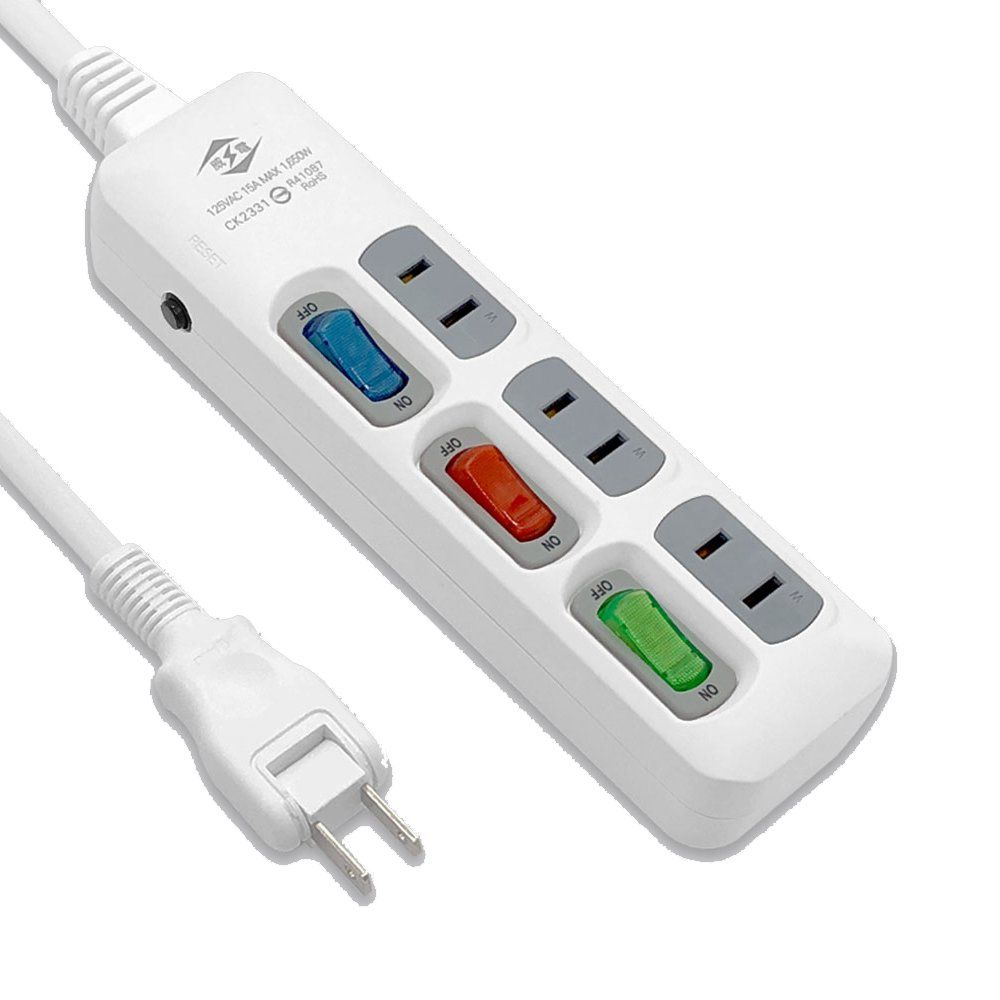socket: (51, 49, 898, 853)
